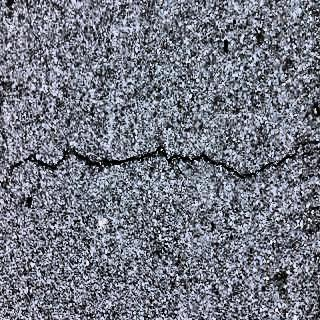crack: (2, 144, 320, 180)
